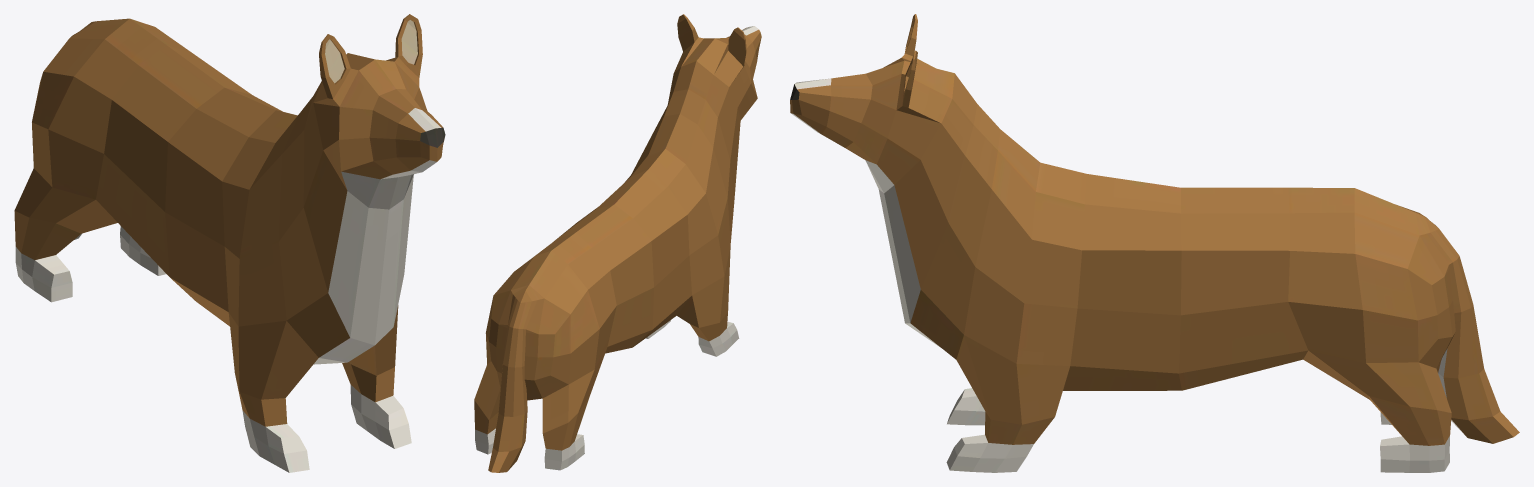
Rendered from corgi.glb.
The picture shows the model from 3 angles, left to right: view 1: azimuth 30°, elevation 25°; view 2: azimuth 150°, elevation 25°; view 3: azimuth 270°, elevation 25°; orthographic projection. The views are drawn at different scales.
Visible parts, largest first — view 1: 14dogFinal; view 2: 14dogFinal; view 3: 14dogFinal.
Part boxes in pixels (x1,y1,x2,y2): 14dogFinal: (14,14,445,472); 14dogFinal: (474,14,761,472); 14dogFinal: (790,14,1519,472).
Size of the model in its own units: 0.2972 by 0.8255 by 1.33.
Materials: 1 (1 with a texture image).
